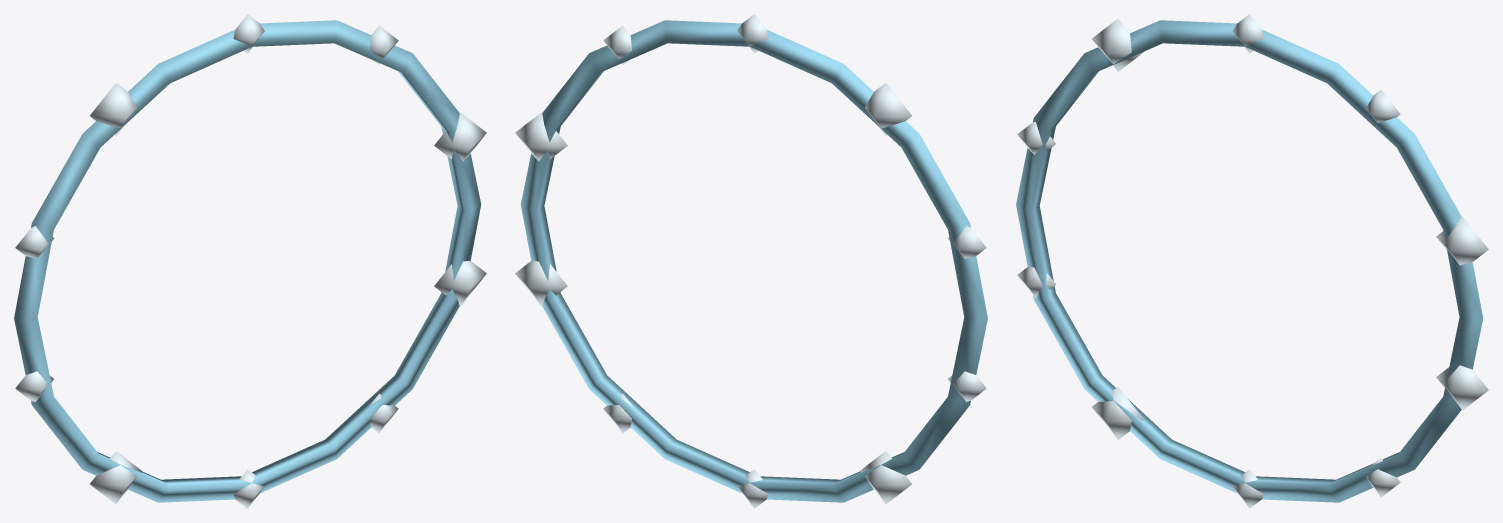
File: current-ring.glb
The picture shows the model from 3 angles, left to right: view 1: azimuth 30°, elevation 25°; view 2: azimuth 150°, elevation 25°; view 3: azimuth 330°, elevation 25°; orthographic projection.
Parts seen in each view (by area): view 1: current-ring; view 2: current-ring; view 3: current-ring.
Part boxes in pixels (x1,y1,x2,y2): current-ring: (14,14,486,508); current-ring: (515,14,987,508); current-ring: (1016,14,1488,508).
Bounding box in the file's own units: 5 × 5 × 0.4.
